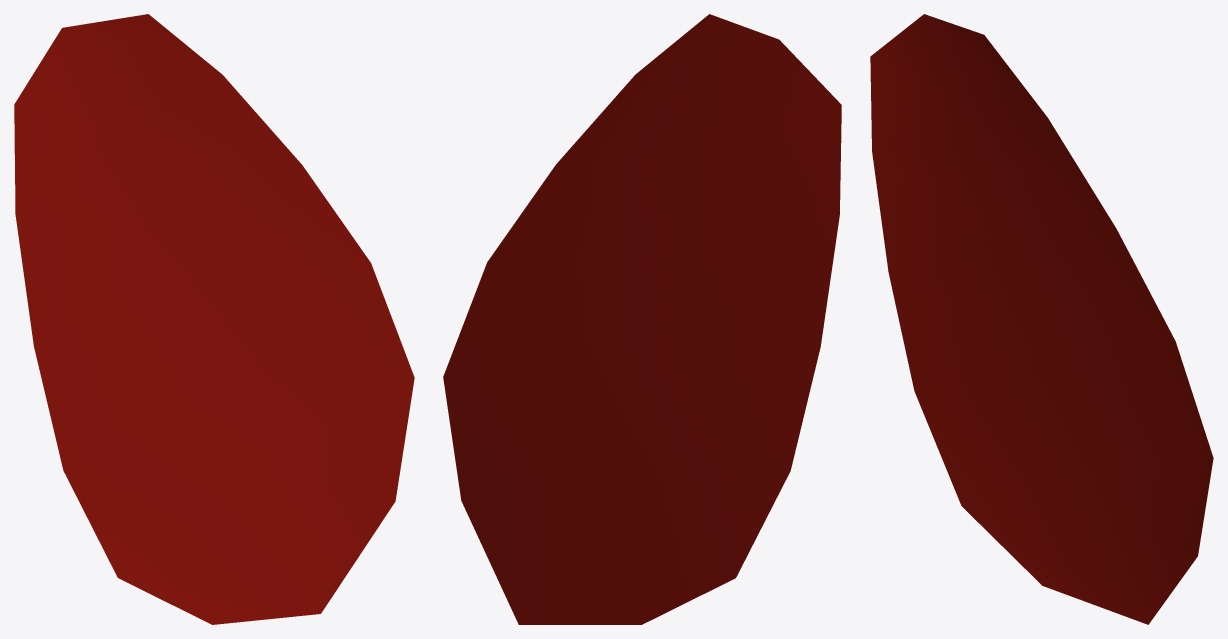
The model's file is ara_feather_flight_tertiary_054.obj.
3 views of the same model, side by side, from view 1: azimuth 30°, elevation 25°; view 2: azimuth 150°, elevation 25°; view 3: azimuth 330°, elevation 25° (orthographic). The views are drawn at different scales.
Parts seen in each view (by area): view 1: feather_flight_tertiary_054; view 2: feather_flight_tertiary_054; view 3: feather_flight_tertiary_054.
Boxes of the visible parts, <box> form: feather_flight_tertiary_054: <box>14,14,414,624</box>; feather_flight_tertiary_054: <box>443,14,841,624</box>; feather_flight_tertiary_054: <box>870,14,1213,624</box>.
Bounding box in the file's own units: 0.0214 × 0.0332 × 0.000882.
